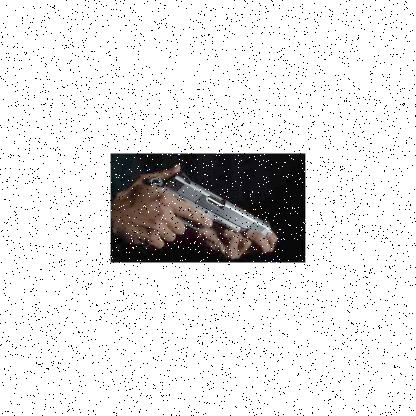gun: (146, 170, 274, 250)
